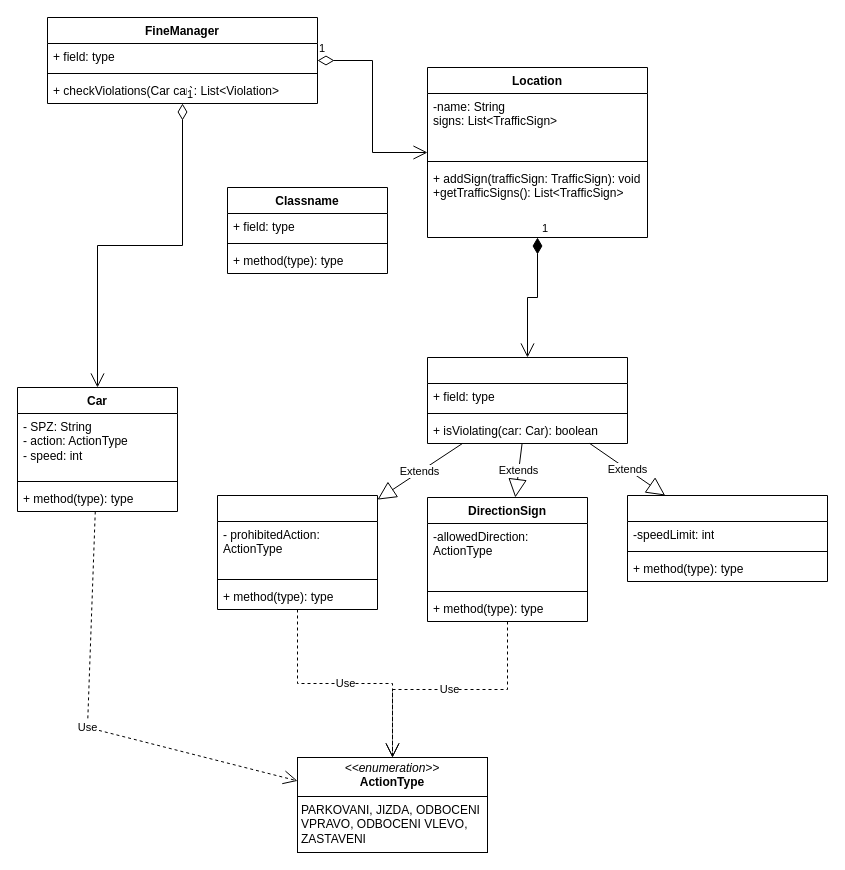
Some shapes in this 845 by 870 pixel diagram are drawn without their labels. The shapes that lost their labels are listed below. From the top down, each one's box as (x1, y1, x2, y2) in pixels, then its label:
(426, 356, 628, 444): TrafficSign
(216, 494, 378, 610): ProhibitionSign
(626, 494, 828, 582): SpeedSign
